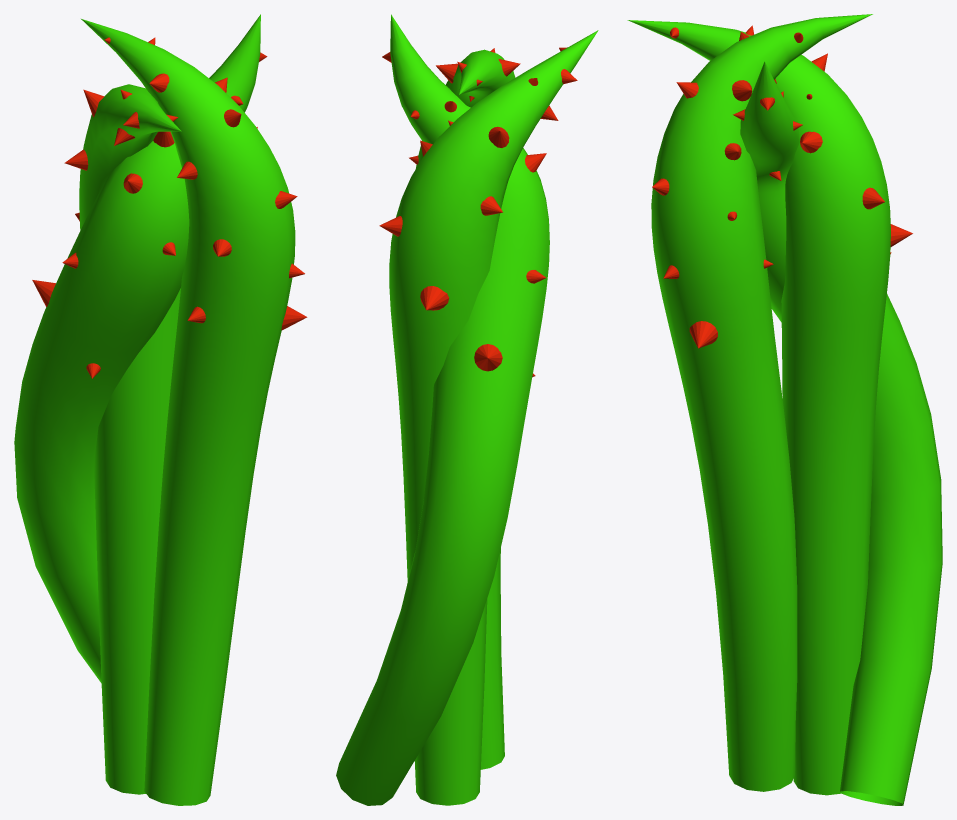
The model's file is plant_01_ziehende_ranken.gltf.
3 renders of one model, left to right at view 1: azimuth 30°, elevation 25°; view 2: azimuth 150°, elevation 25°; view 3: azimuth 270°, elevation 25°, orthographic. The views are drawn at different scales.
Visible parts, largest first — view 1: NurbsPath; view 2: NurbsPath; view 3: NurbsPath.
Part boxes in pixels (box(x1,y1,x2,y2)): NurbsPath: box(14, 14, 307, 805); NurbsPath: box(336, 14, 598, 805); NurbsPath: box(627, 14, 942, 805).
Size of the model in its own units: 1.29 by 4.89 by 1.82.
